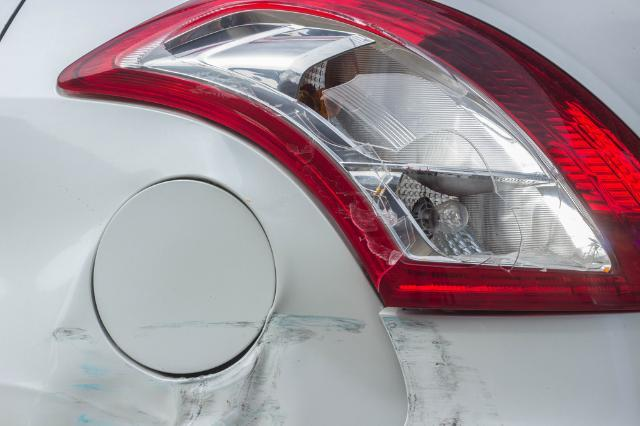dent: (33, 255, 408, 426)
lamp broken: (60, 0, 640, 315)
scratch: (384, 314, 505, 426)
